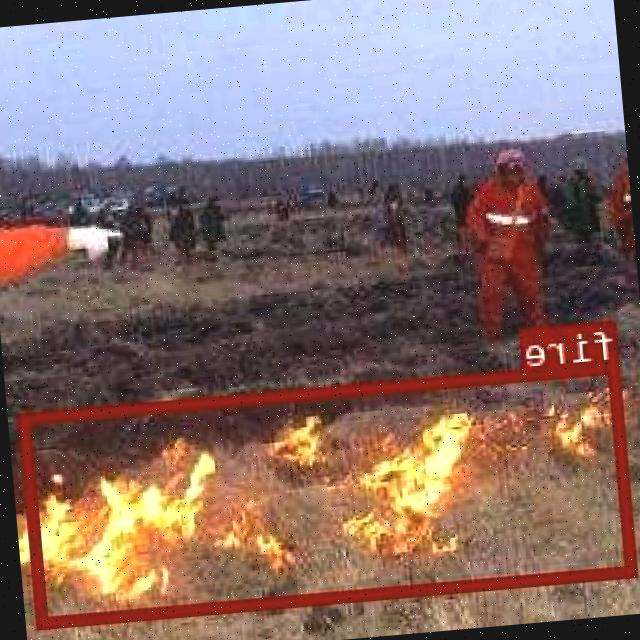fire: (21, 360, 640, 626)
